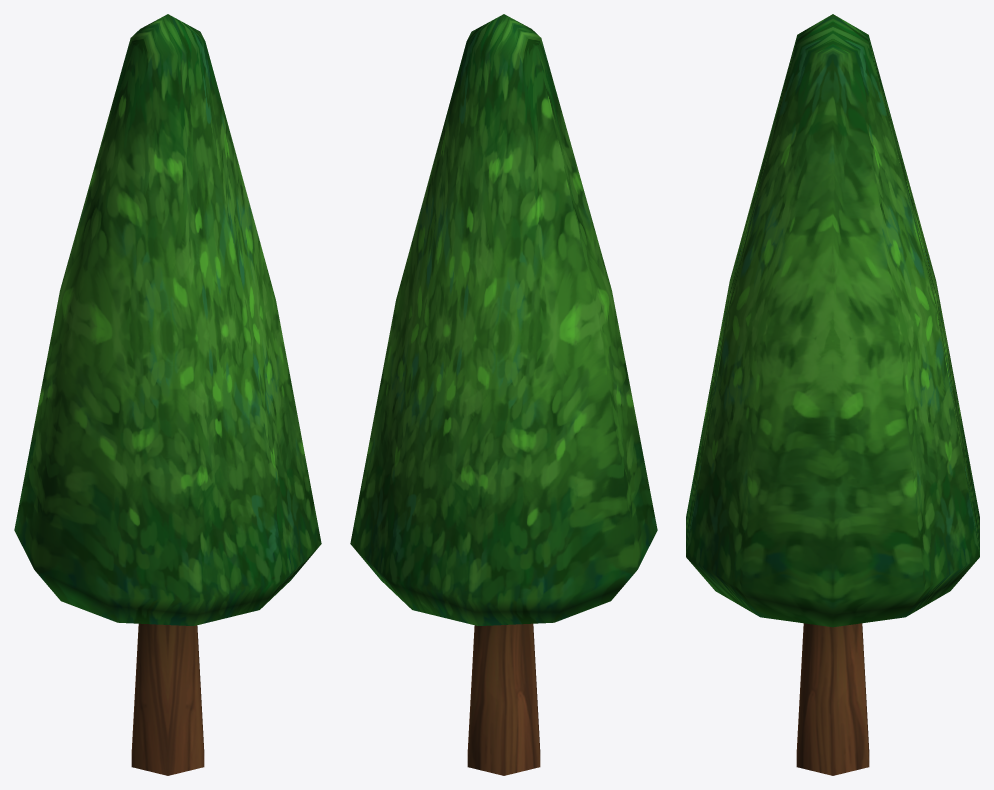
File: Hedge_tree2.fbx
The picture shows the model from 3 angles, left to right: view 1: azimuth 30°, elevation 25°; view 2: azimuth 150°, elevation 25°; view 3: azimuth 270°, elevation 25°; orthographic projection.
Parts seen in each view (by area): view 1: Hedge_tree2; view 2: Hedge_tree2; view 3: Hedge_tree2.
Boxes of the visible parts, box(x1,y1,x2,y2) form: Hedge_tree2: box(14, 14, 321, 775); Hedge_tree2: box(350, 14, 657, 775); Hedge_tree2: box(686, 14, 979, 775).
Size of the model in its own units: 87.85 by 233 by 83.55.
